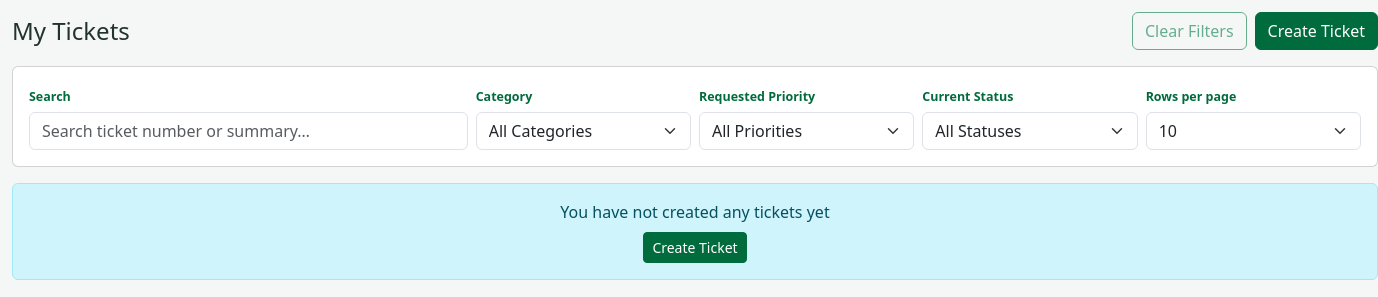
MyTickets › Search Debounce › does not restore a stale debounced search after Clear Filters
Type "stale-term" into the field with placeholder "Search ticket number or summary…" at (248, 130), box [29,112,468,150]
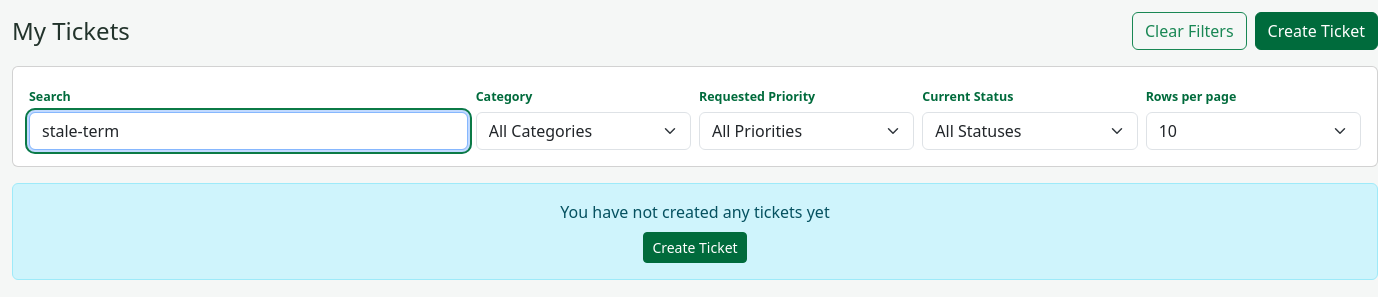
Click the button "Clear Filters" at (1189, 31), box [1132,12,1246,50]
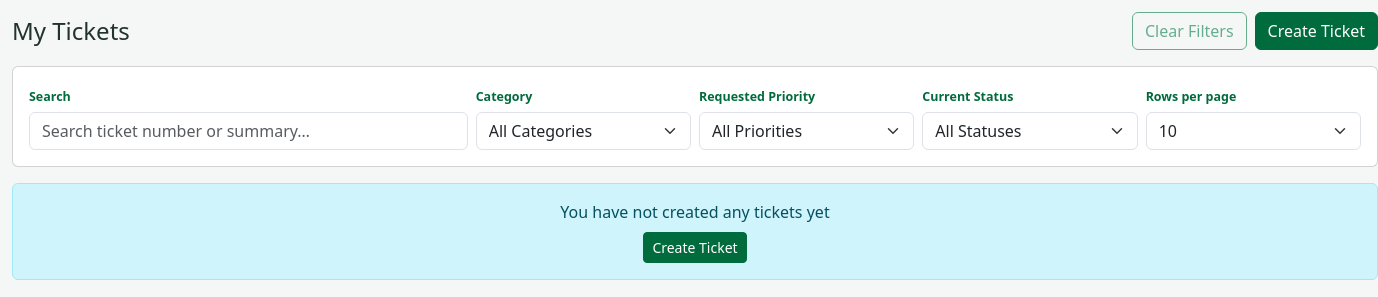
Result: the field with placeholder "Search ticket number or summary…" is empty at [29,112,468,150]
